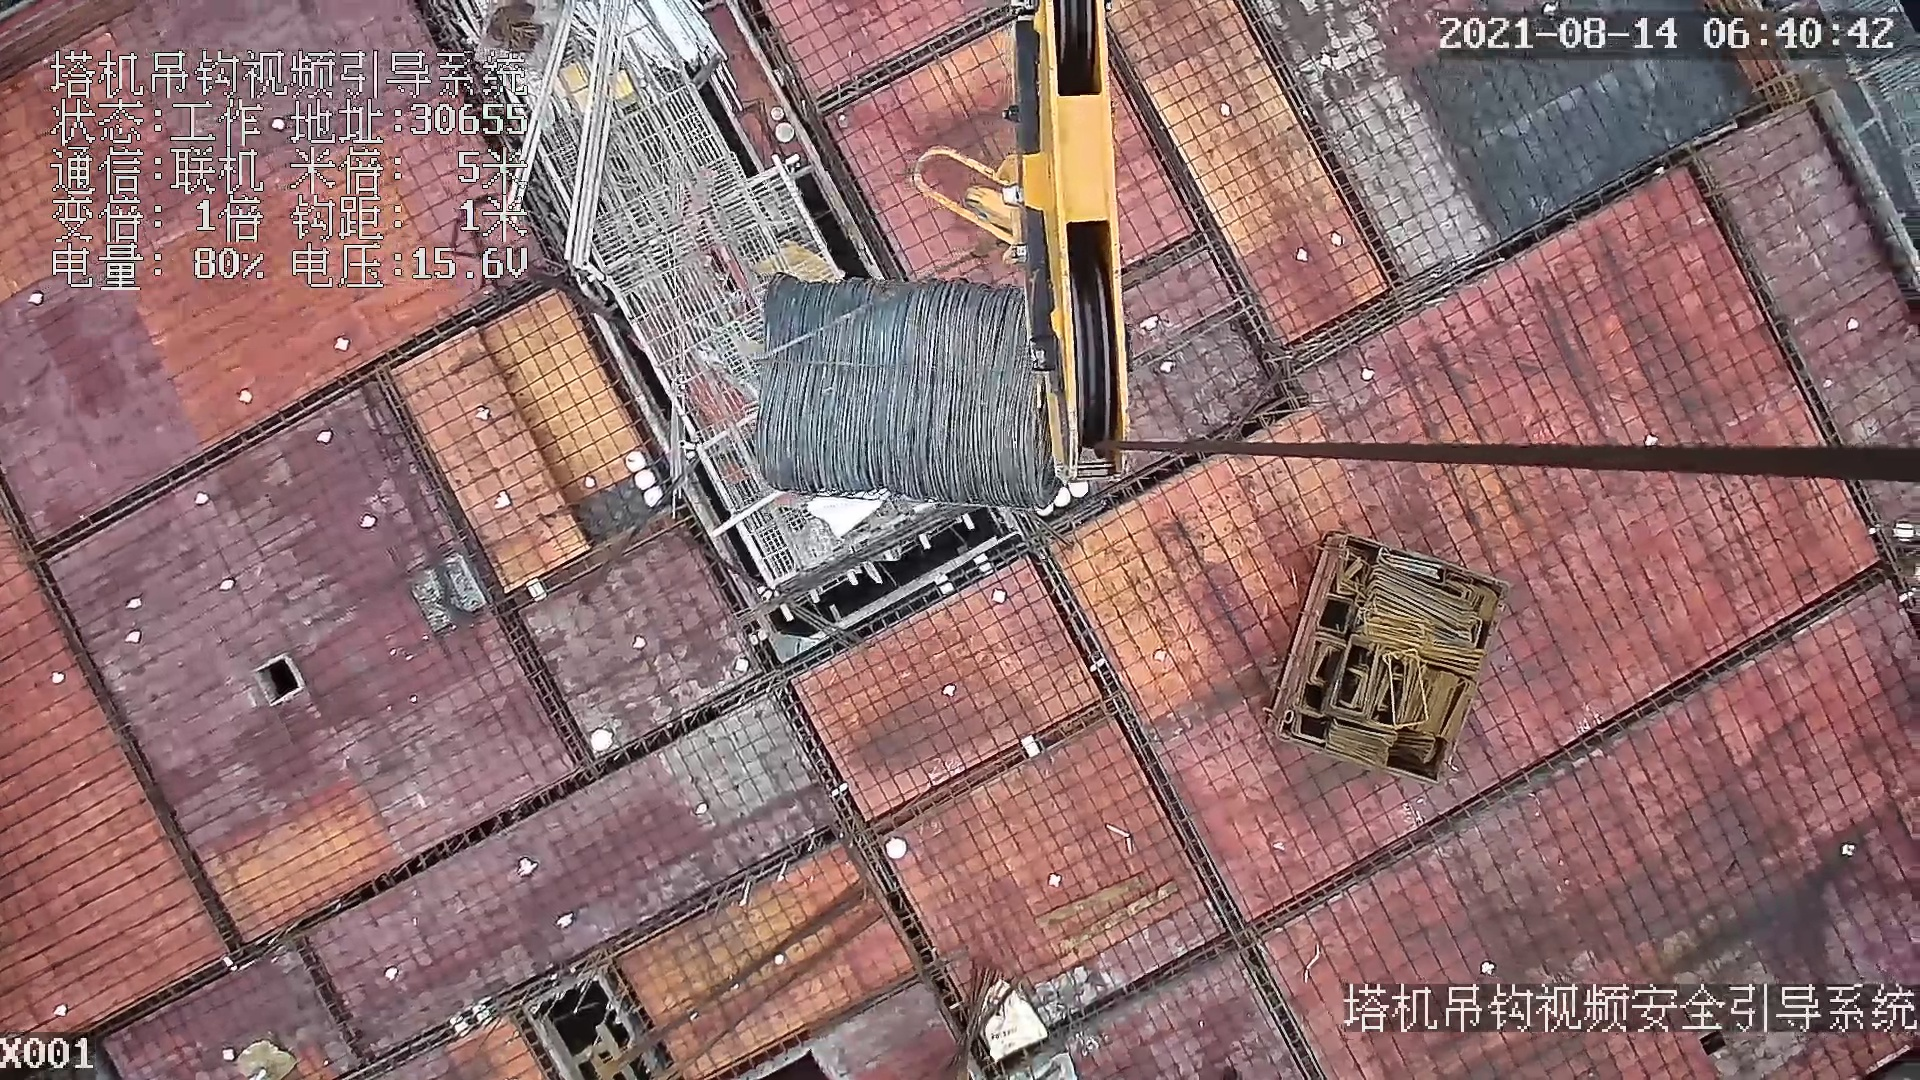hook: (913, 1, 1131, 481)
